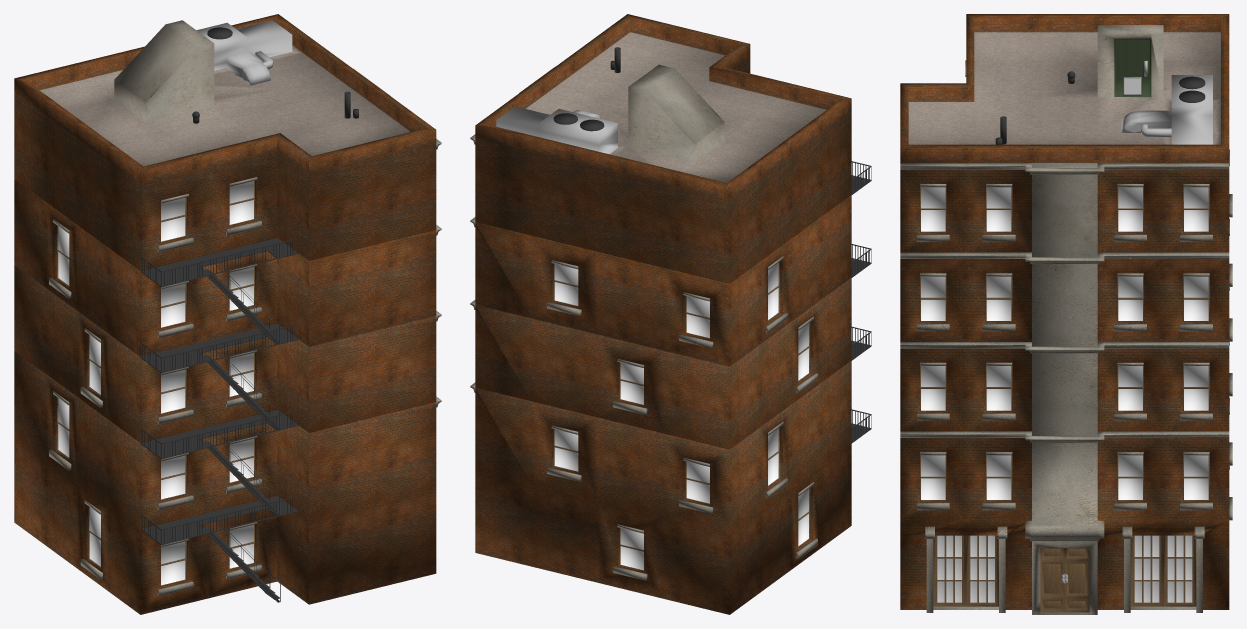
Rendered from building03_joined.glb.
The picture shows the model from 3 angles, left to right: view 1: azimuth 30°, elevation 25°; view 2: azimuth 150°, elevation 25°; view 3: azimuth 270°, elevation 25°; orthographic projection. The views are drawn at different scales.
Visible parts, largest first — view 1: ConsolidatedMesh; view 2: ConsolidatedMesh; view 3: ConsolidatedMesh.
Part boxes in pixels (x1=…): ConsolidatedMesh: x1=14, y1=14, x2=441, y2=614; ConsolidatedMesh: x1=470, y1=14, x2=871, y2=614; ConsolidatedMesh: x1=900, y1=14, x2=1232, y2=614.
Bounding box in the file's own units: 10.3 × 17.2 × 10.1.
9 materials, 5 textured.
